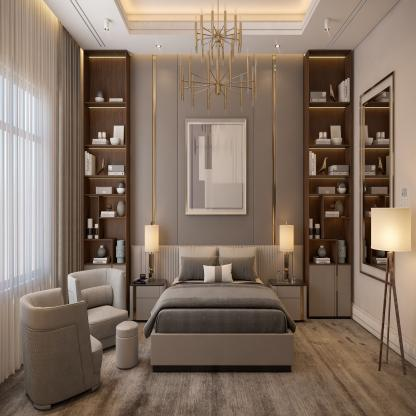Bed: (148, 244, 295, 374)
Carpet: (262, 319, 416, 416)
Curtains: (56, 19, 84, 303)
Lamp: (364, 198, 416, 379), (275, 216, 298, 291), (138, 218, 162, 288)
Shelf: (300, 45, 354, 322), (76, 46, 133, 284)
Wall Panel: (131, 52, 302, 246)
